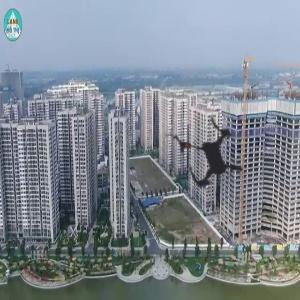drone: (139, 79, 292, 232)
